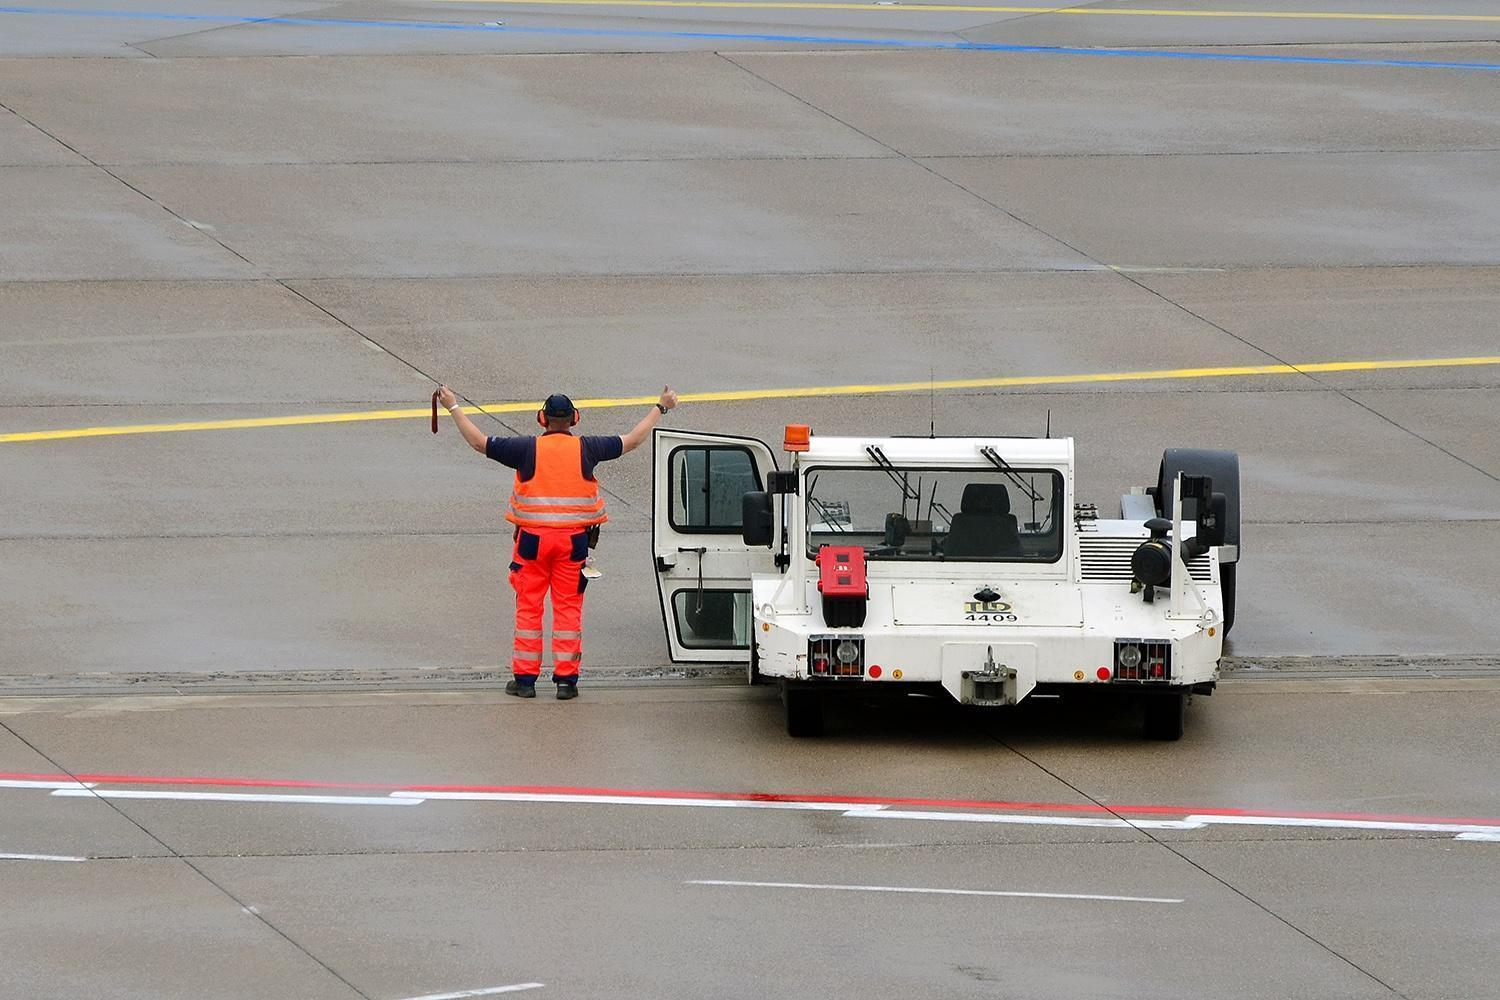Glass: (508, 425, 607, 538)
